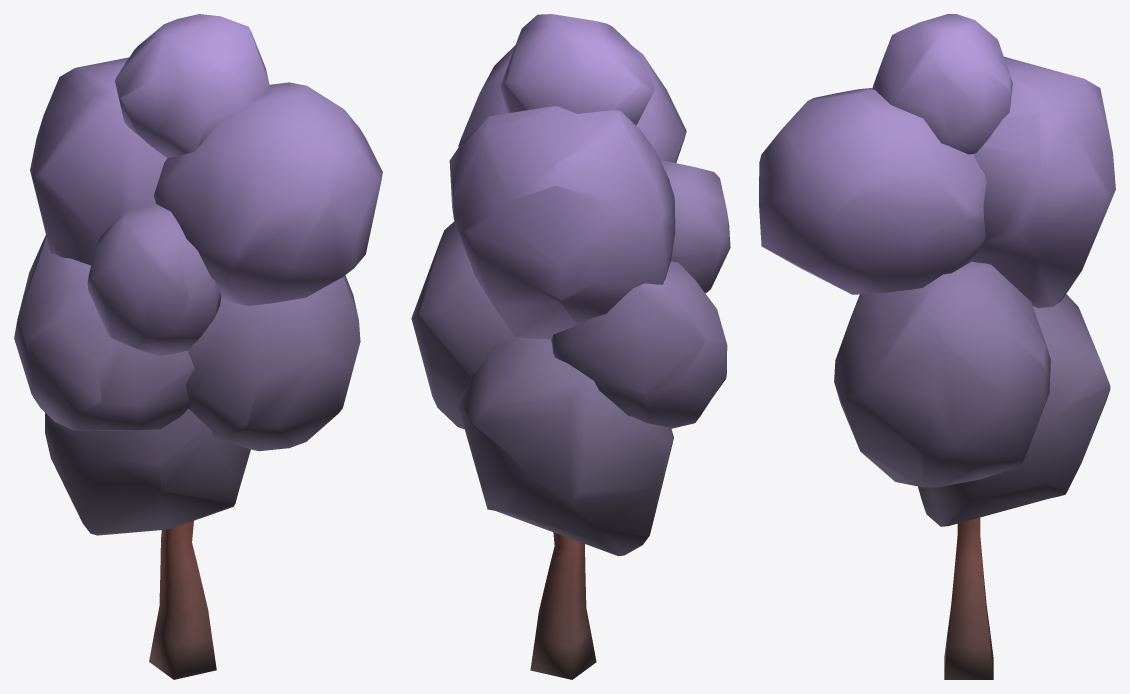
The picture shows the model from 3 angles, left to right: view 1: azimuth 30°, elevation 25°; view 2: azimuth 150°, elevation 25°; view 3: azimuth 270°, elevation 25°; orthographic projection. The views are drawn at different scales.
Visible parts, largest first — view 1: Vert.025; view 2: Vert.025; view 3: Vert.025.
Part boxes in pixels (box(x1,y1,x2,y2)): Vert.025: box(14, 14, 382, 679); Vert.025: box(411, 14, 730, 679); Vert.025: box(759, 14, 1115, 679).
Bounding box in the file's own units: 2.79 × 5.41 × 2.69.
1 material, 1 textured.
